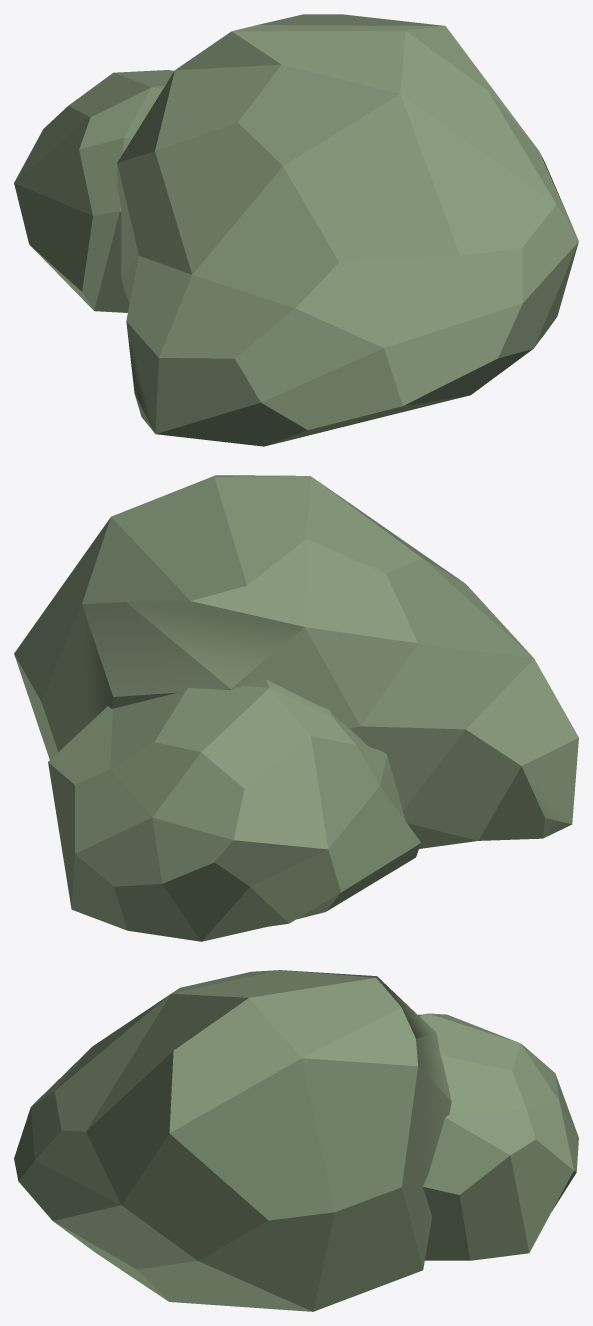
Rendered from Bush1.fbx.
The picture shows the model from 3 angles, top to bottom: view 1: azimuth 30°, elevation 25°; view 2: azimuth 150°, elevation 25°; view 3: azimuth 270°, elevation 25°; orthographic projection. The views are drawn at different scales.
Parts seen in each view (by area): view 1: Big_bush1; view 2: Big_bush1; view 3: Big_bush1.
Part boxes in pixels (box(x1,y1,x2,y2)): Big_bush1: box(14, 14, 578, 446); Big_bush1: box(14, 475, 578, 941); Big_bush1: box(14, 970, 578, 1311).
Size of the model in its own units: 11.14 by 7.02 by 13.61.
